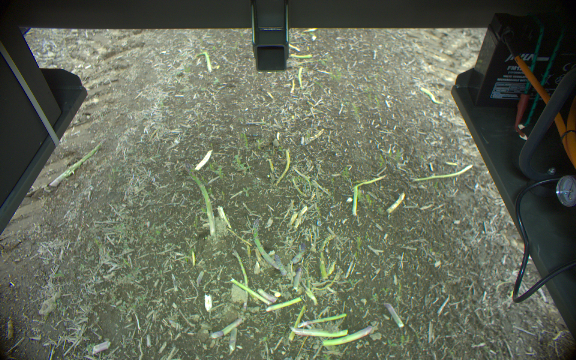aspa: (52, 138, 106, 185), (185, 167, 215, 235), (413, 163, 472, 184), (251, 221, 276, 269), (230, 275, 270, 305), (327, 324, 375, 347), (315, 234, 336, 280), (289, 324, 349, 340), (208, 318, 248, 340), (297, 311, 350, 327), (288, 304, 307, 343), (382, 301, 404, 331), (265, 296, 302, 313), (291, 240, 308, 265), (289, 265, 303, 292), (227, 327, 240, 356), (351, 186, 361, 218), (274, 256, 285, 274)
